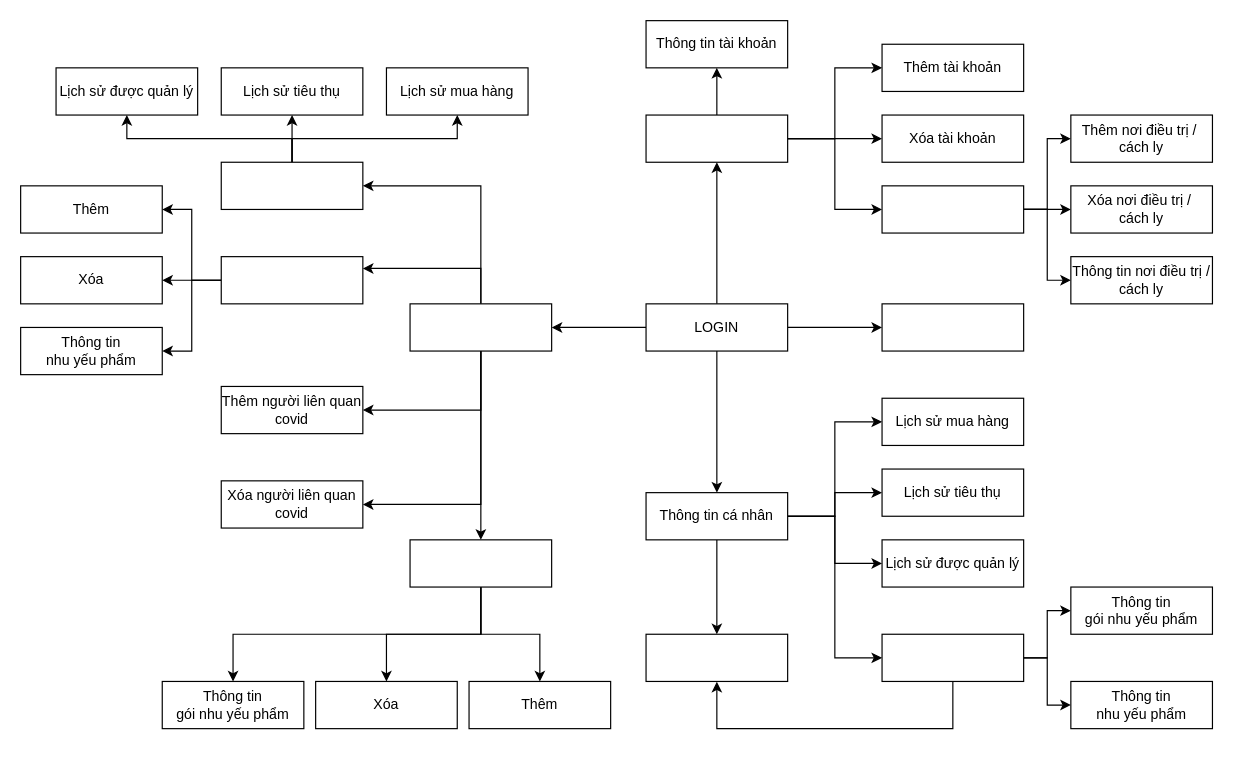
The diagram is 1233 pixels wide and 759 high, and some of its shapes have lost their labels. The shapes that lost their labels are listed below. From the top down, each one's centre as x and y in pixels, then its label:
At point (716, 138): "Danh sách tài khoản".
At point (291, 185): "Thông tin người liên quan covid".
At point (952, 209): "Danh sách nơi điều trị / cách ly".
At point (291, 279): "Nhu yếu phẩm".
At point (480, 327): "Người liên quan covid".
At point (952, 327): "SIGNUP".
At point (480, 563): "Gói nhu yếu phẩm".
At point (716, 657): "Giỏ hàng".
At point (952, 657): "Mua hàng".
